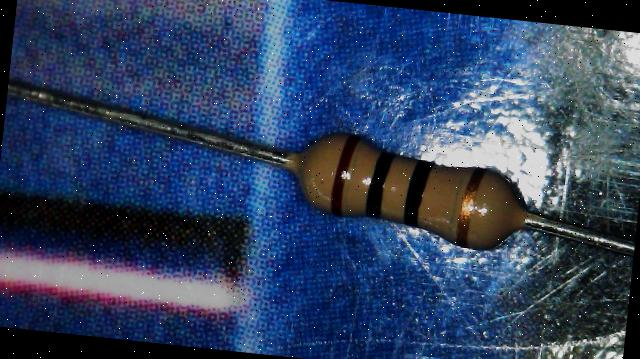black: (403, 159, 435, 228), (365, 151, 395, 219)
brown: (327, 135, 360, 215)
gold: (456, 166, 486, 242)
resistor: (274, 113, 539, 266)
